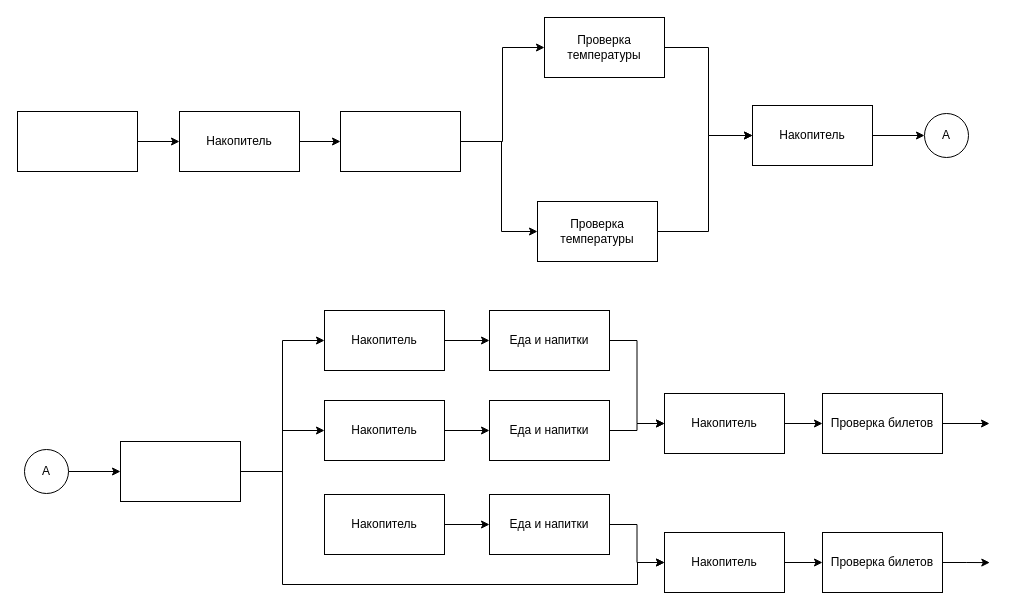
The diagram is 1016 pixels wide and 610 high, and some of its shapes have lost their labels. The centre of each missing label's shape, as x and y in pixels:
Касса: pixel 180 471
Посетители: pixel 77 141
Проверка маски: pixel 400 141
